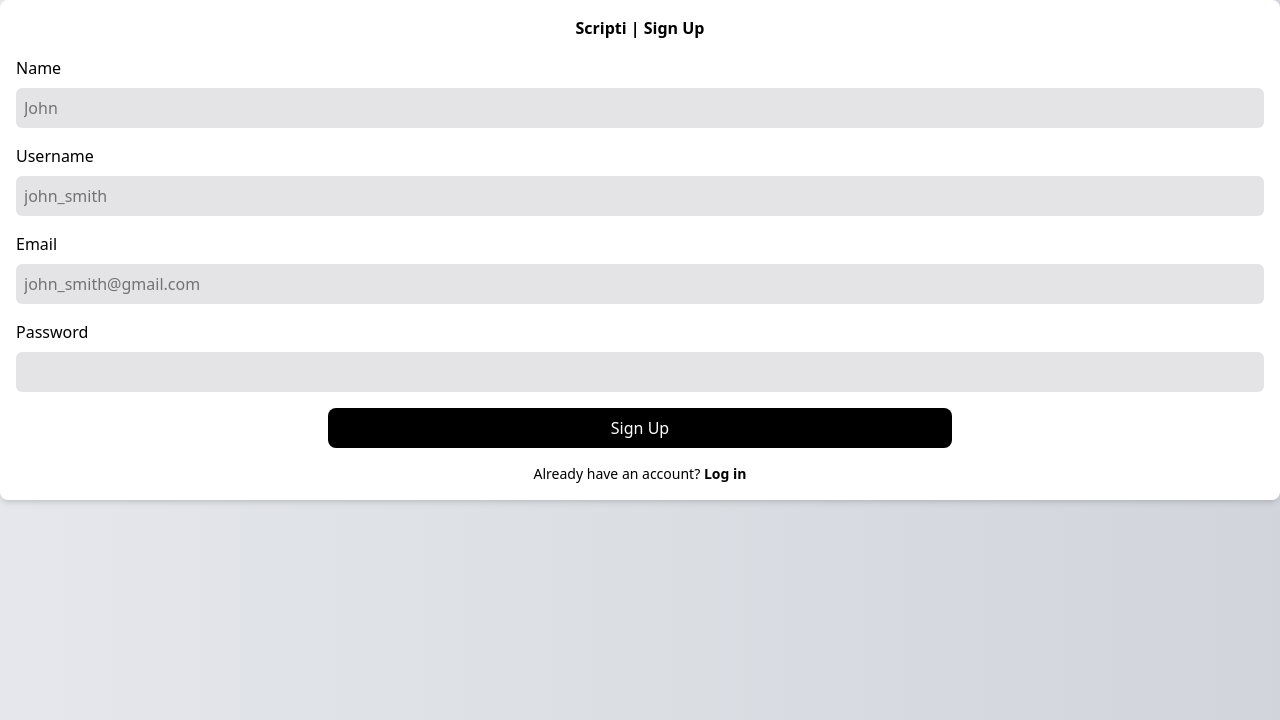
Scenario: signup page: messages › should display error message for taken username
Step 1. Click the button "Sign Up" → [640, 428], box [328, 408, 952, 448]
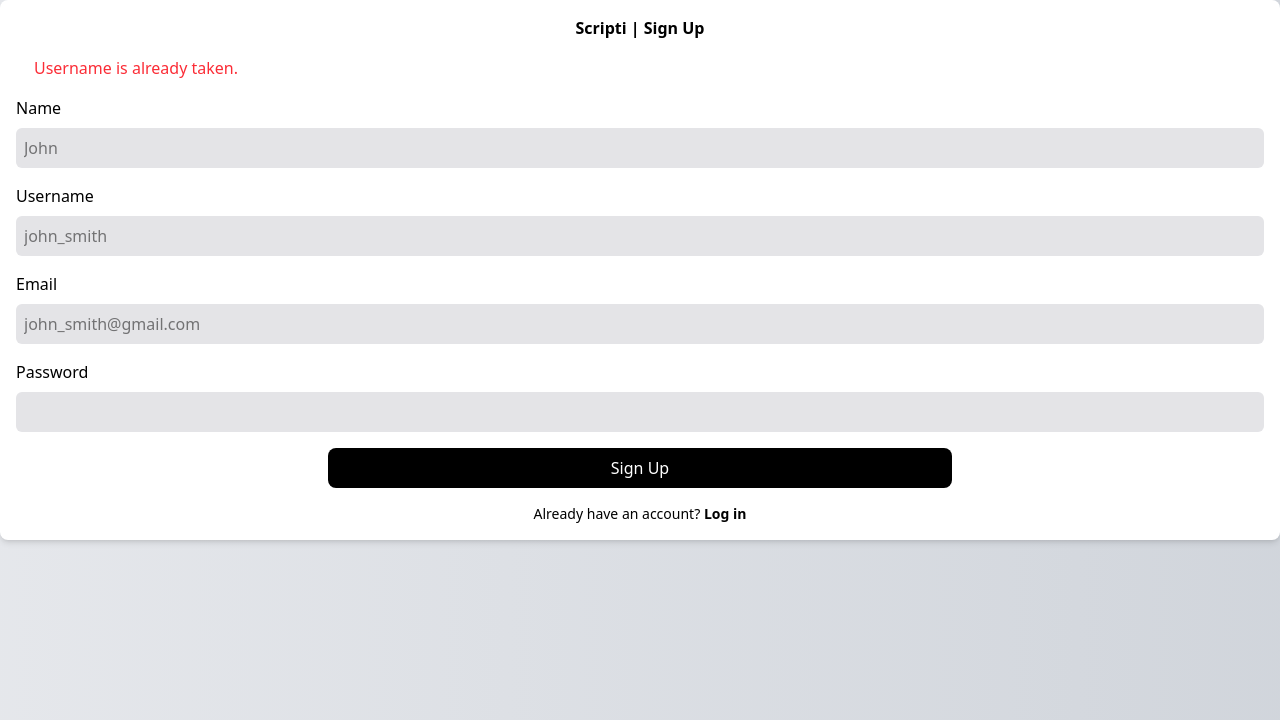
Expected: the text "Username is already taken." is shown, [16, 56, 256, 80]
